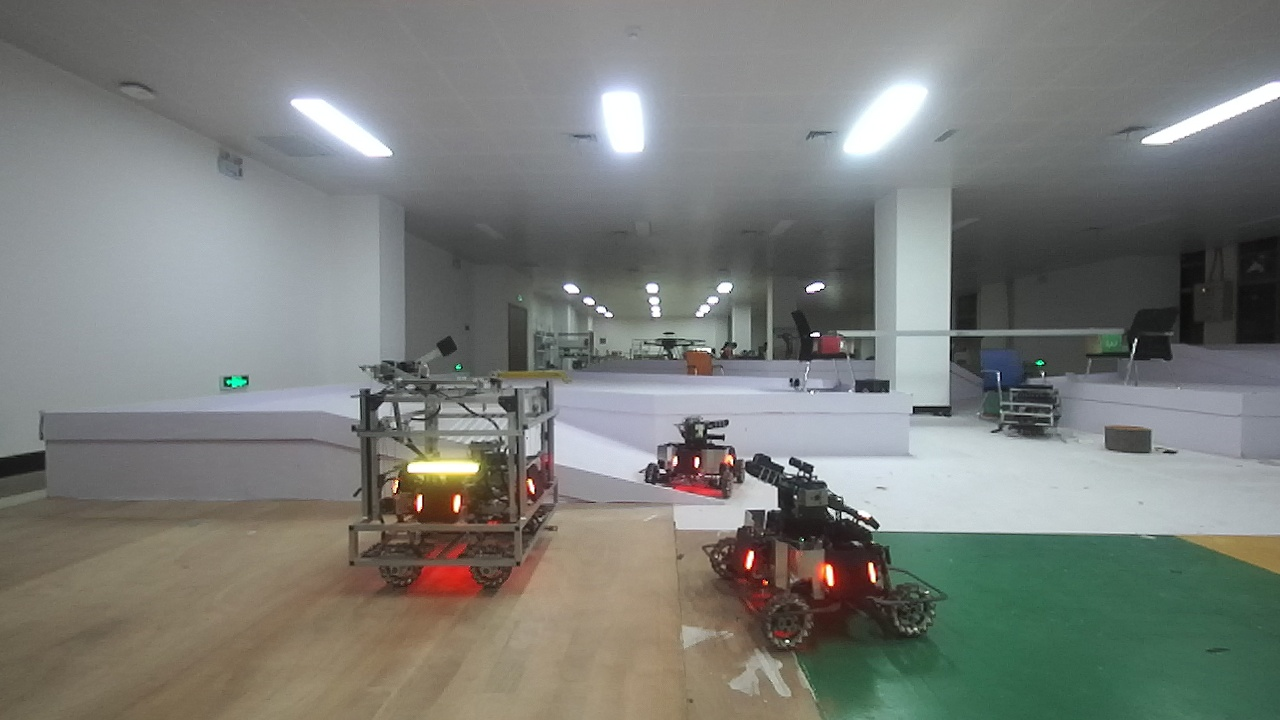car: (335, 353, 588, 607), (690, 458, 946, 649), (628, 411, 744, 507)
